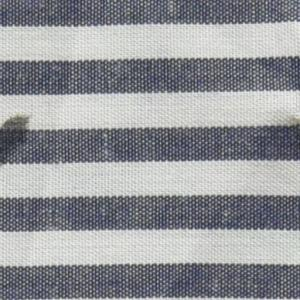Stain: (1, 110, 37, 167)
